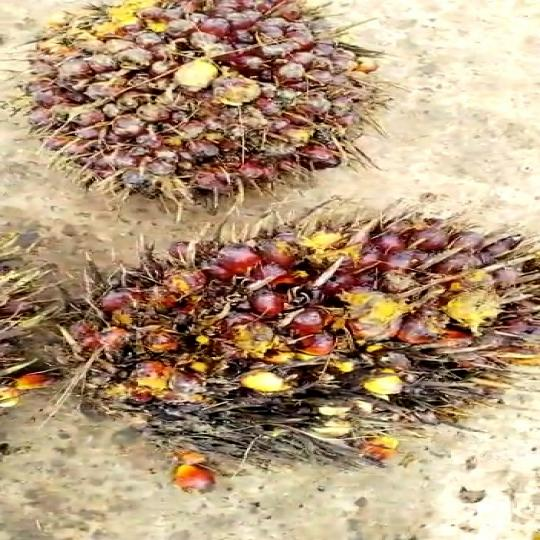masak: (44, 198, 540, 468), (20, 0, 390, 214)
